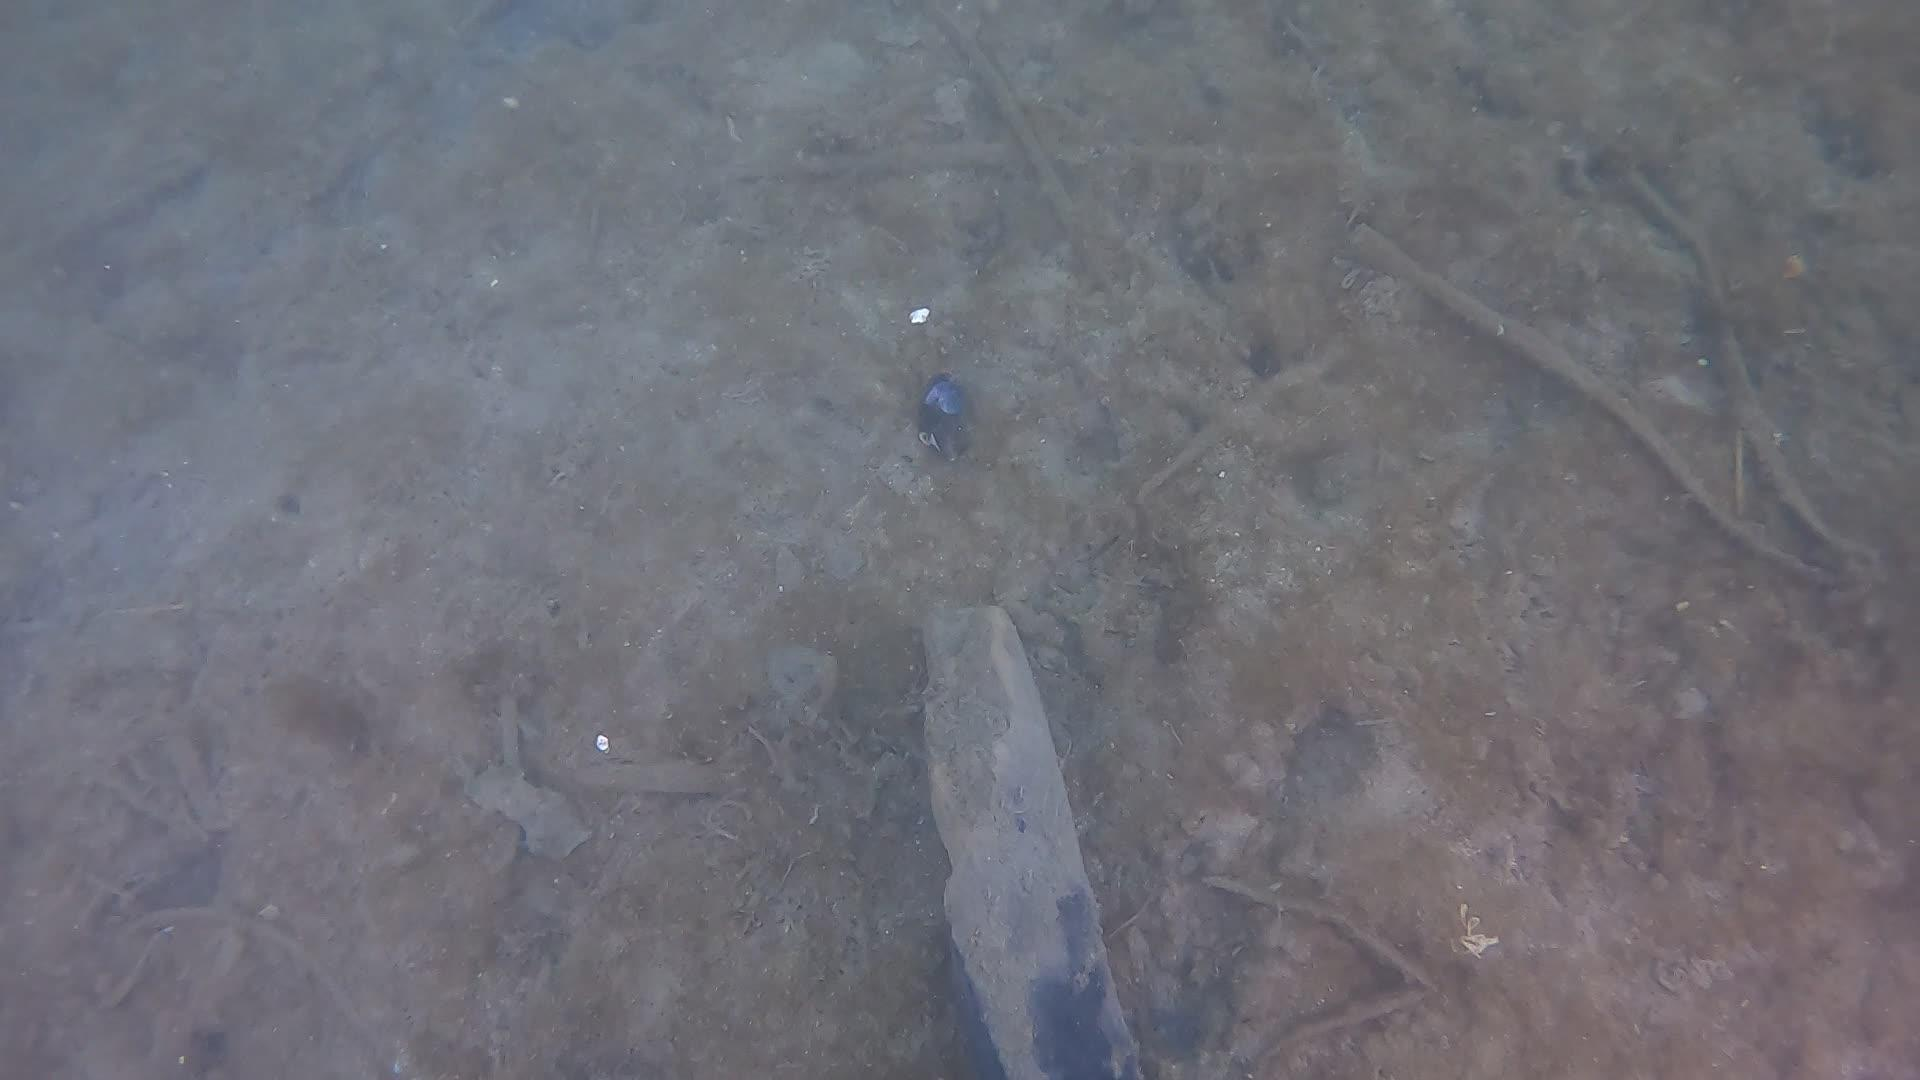wood: (915, 599, 1147, 1080)
